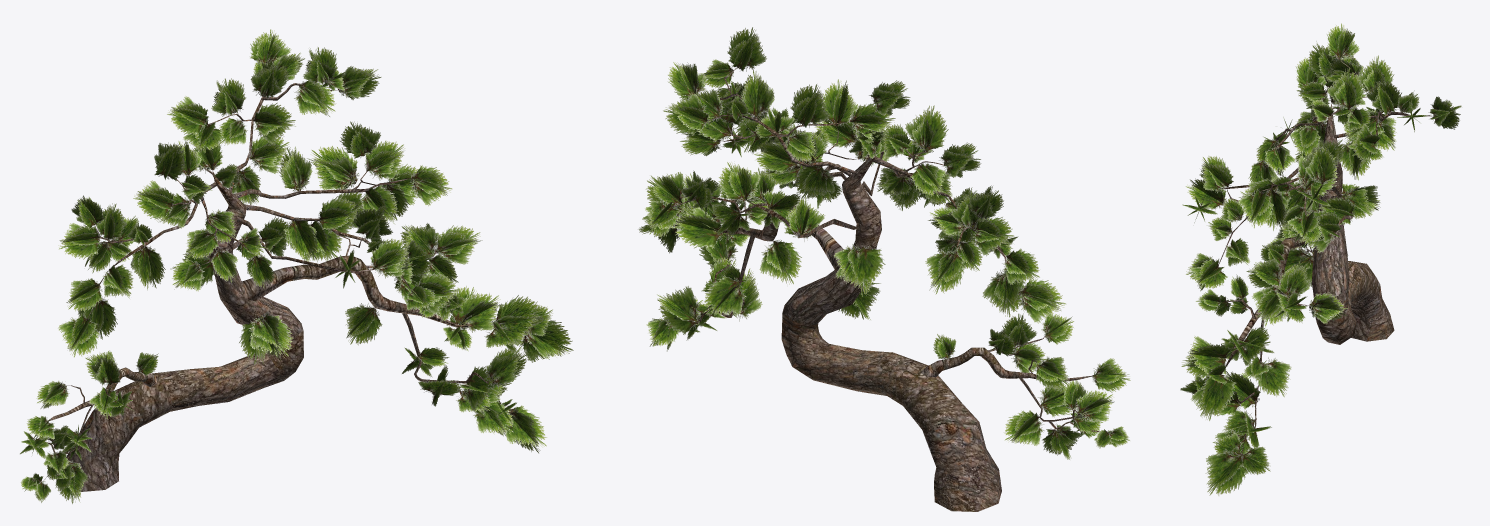
File: pin_tree1.fbx
The picture shows the model from 3 angles, left to right: view 1: azimuth 30°, elevation 25°; view 2: azimuth 150°, elevation 25°; view 3: azimuth 270°, elevation 25°; orthographic projection. The views are drawn at different scales.
Parts seen in each view (by area): view 1: oneSide, pin_tree_wood; view 2: oneSide, pin_tree_wood; view 3: oneSide, pin_tree_wood.
Boxes of the visible parts, left/top/right/bottom form: oneSide: left=20, top=29, right=573, bottom=503; pin_tree_wood: left=34, top=82, right=511, bottom=491; oneSide: left=638, top=27, right=1130, bottom=459; pin_tree_wood: left=671, top=68, right=1108, bottom=511; oneSide: left=1180, top=23, right=1461, bottom=495; pin_tree_wood: left=1200, top=60, right=1431, bottom=454.
Size of the model in its own units: 255 by 193 by 142.
